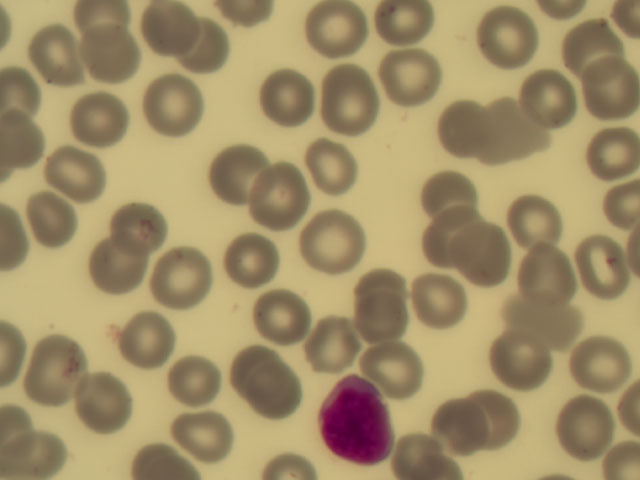RBC: (26, 24, 86, 83), (85, 26, 145, 85), (80, 89, 140, 148), (48, 146, 108, 205), (22, 178, 82, 237), (110, 188, 170, 247), (90, 237, 150, 296), (161, 252, 221, 311), (223, 231, 283, 290), (256, 163, 316, 222), (214, 143, 274, 202), (255, 67, 315, 126), (152, 77, 212, 136), (177, 15, 237, 74), (307, 5, 367, 64), (318, 64, 378, 123), (373, 43, 433, 102), (376, 1, 436, 60), (434, 101, 494, 160), (303, 131, 363, 190), (305, 213, 365, 272), (352, 287, 412, 346), (306, 322, 366, 381), (252, 286, 312, 345), (246, 368, 306, 427), (223, 336, 283, 395), (169, 355, 229, 414), (113, 300, 173, 359), (80, 368, 140, 427), (33, 338, 93, 397), (173, 398, 233, 457), (370, 340, 430, 399), (412, 269, 472, 328), (455, 223, 515, 282), (419, 198, 479, 257), (423, 174, 483, 233), (493, 106, 553, 165), (521, 72, 581, 131), (478, 11, 538, 70), (565, 16, 625, 75), (580, 57, 640, 116), (580, 119, 640, 178), (580, 179, 640, 238), (580, 240, 640, 299), (517, 243, 577, 302), (513, 197, 573, 256), (524, 287, 584, 346), (487, 325, 547, 384), (568, 336, 628, 395), (557, 394, 617, 453), (470, 391, 530, 450), (429, 404, 489, 463), (141, 1, 201, 59)
WBC: (319, 372, 396, 463)
